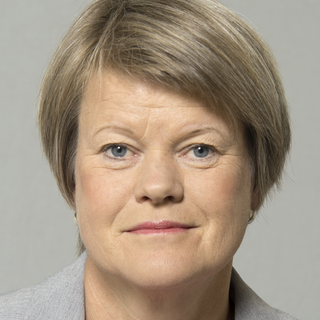eye: (175, 138, 225, 166), (93, 139, 144, 165)
